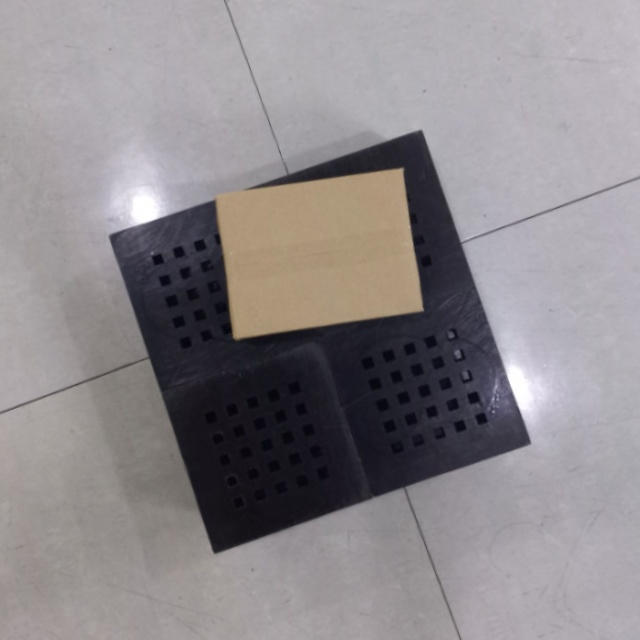box: (208, 161, 429, 349)
pallet: (91, 111, 539, 566)
